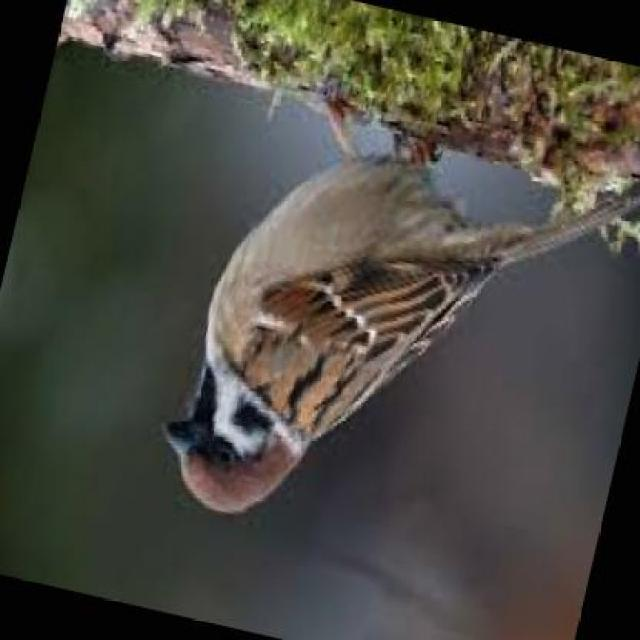Bird: (157, 69, 640, 520)
